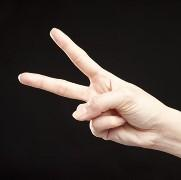tyoki: (17, 27, 153, 150)
